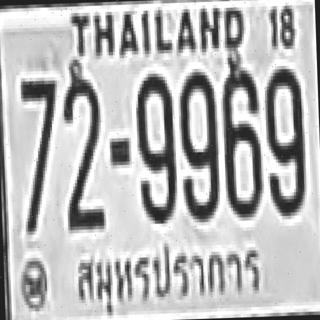N02: (61, 72, 103, 227)
N06: (219, 64, 260, 214)
N07: (18, 77, 60, 232), (18, 77, 58, 182)
N09: (132, 70, 176, 221), (262, 65, 306, 213), (177, 68, 218, 219)
P57: (66, 237, 268, 312)
